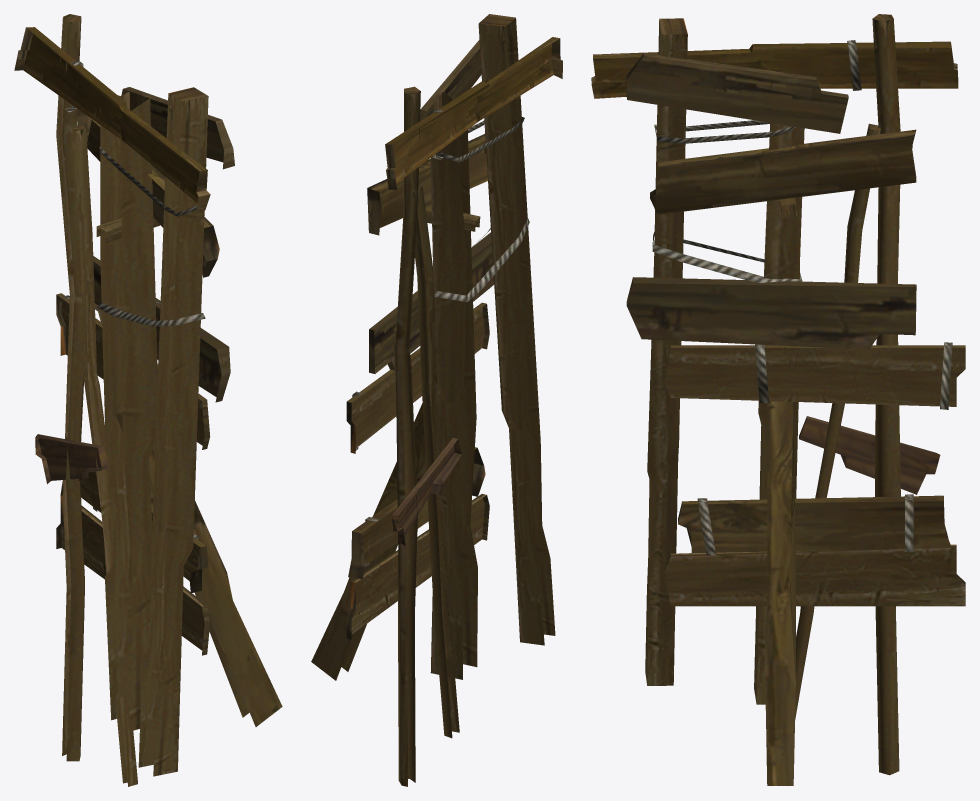
Rendered from 6001_Item_mutou_13.FBX.
3 views of the same model, side by side, from view 1: azimuth 30°, elevation 25°; view 2: azimuth 150°, elevation 25°; view 3: azimuth 270°, elevation 25° (orthographic). The views are drawn at different scales.
Parts seen in each view (by area): view 1: 6001_Item_mutou_13; view 2: 6001_Item_mutou_13; view 3: 6001_Item_mutou_13.
Part boxes in pixels (box(x1,y1,x2,y2)): 6001_Item_mutou_13: box(14, 14, 282, 786); 6001_Item_mutou_13: box(311, 14, 562, 786); 6001_Item_mutou_13: box(591, 14, 965, 785).
Bounding box in the file's own units: 63.86 × 107 × 237.
